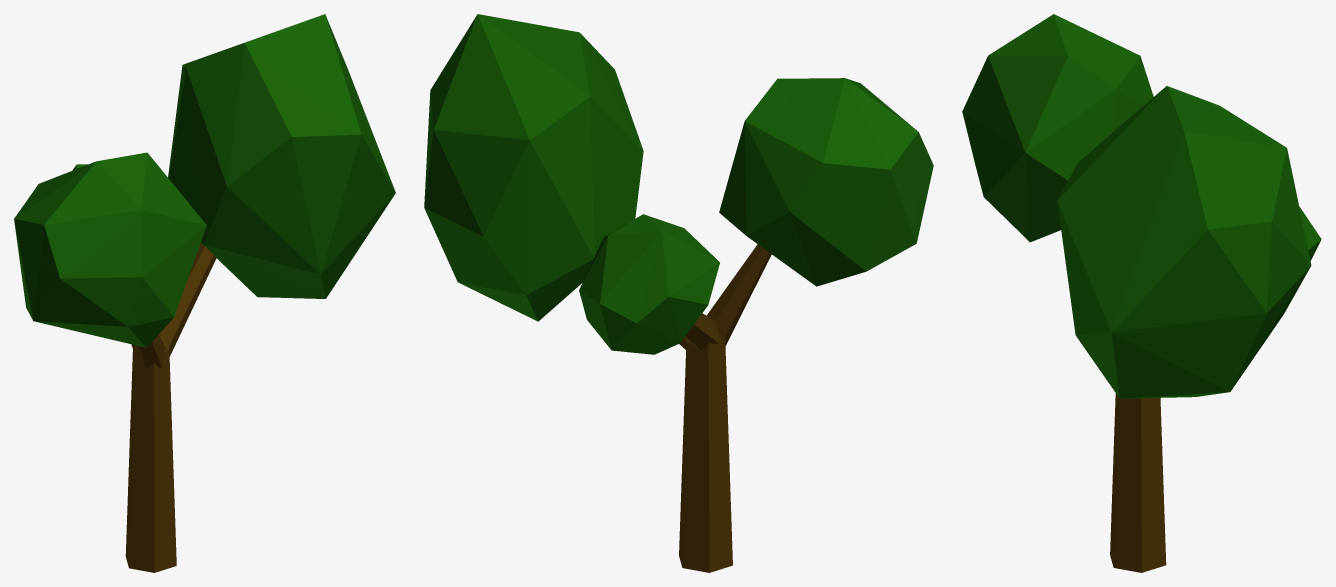
File: Tree2.fbx
The picture shows the model from 3 angles, left to right: view 1: azimuth 30°, elevation 25°; view 2: azimuth 150°, elevation 25°; view 3: azimuth 270°, elevation 25°; orthographic projection. The views are drawn at different scales.
Parts seen in each view (by area): view 1: TreeType2; view 2: TreeType2; view 3: TreeType2.
Part boxes in pixels (box(x1,y1,x2,y2)): TreeType2: box(14, 14, 395, 572); TreeType2: box(424, 14, 933, 572); TreeType2: box(962, 14, 1321, 572).
Size of the model in its own units: 952 by 1127 by 688.
